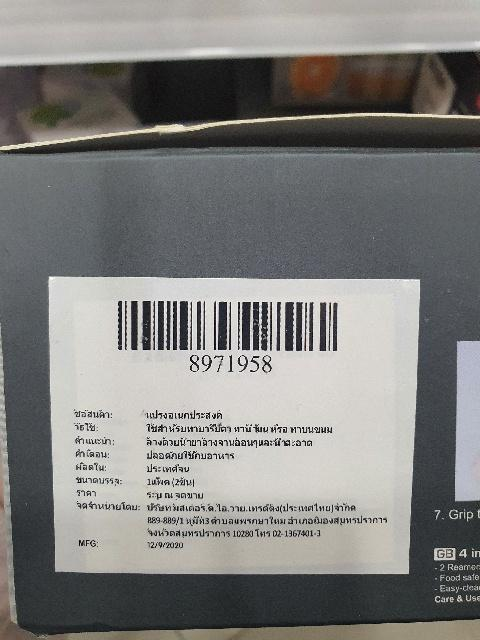Barcode: (103, 290, 356, 375)
